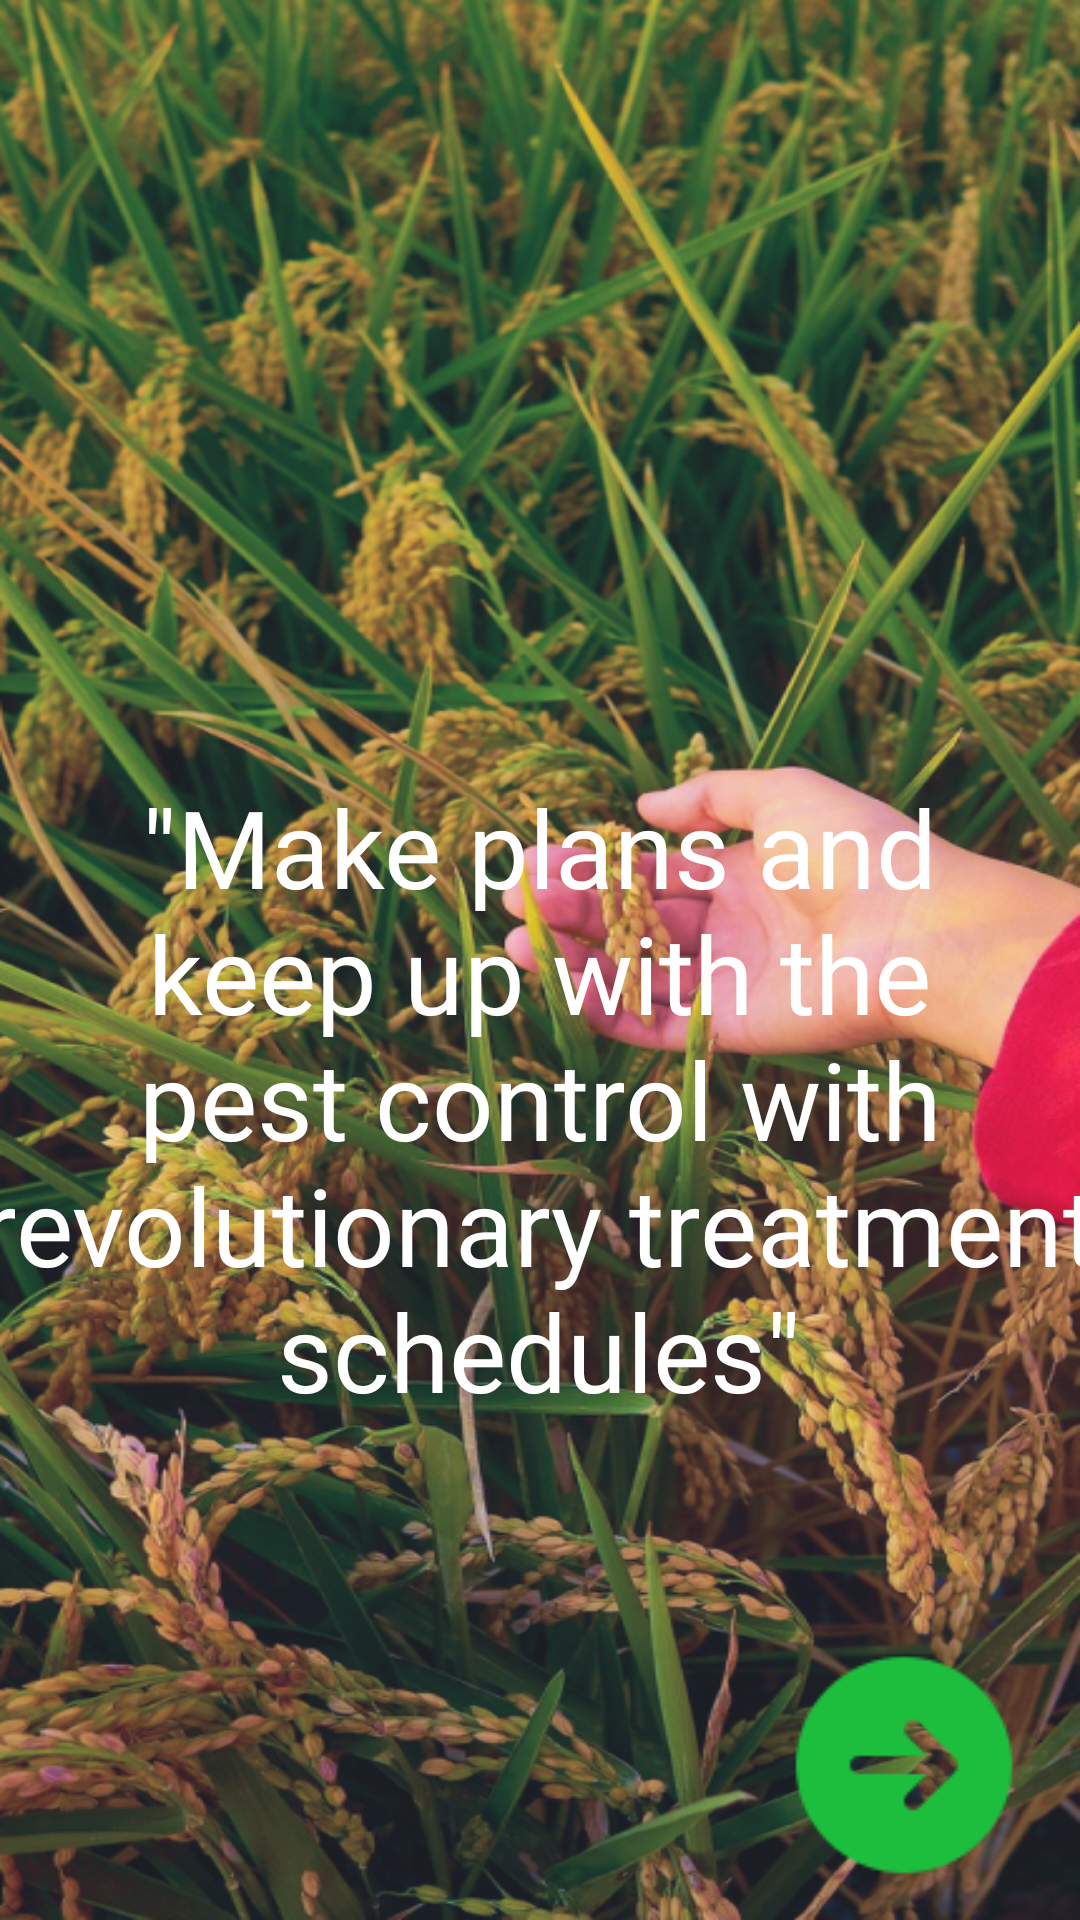

Where to tap for icons on this 1080 × 1920 app screen, as point (x, y):
next: point (903, 1765)
